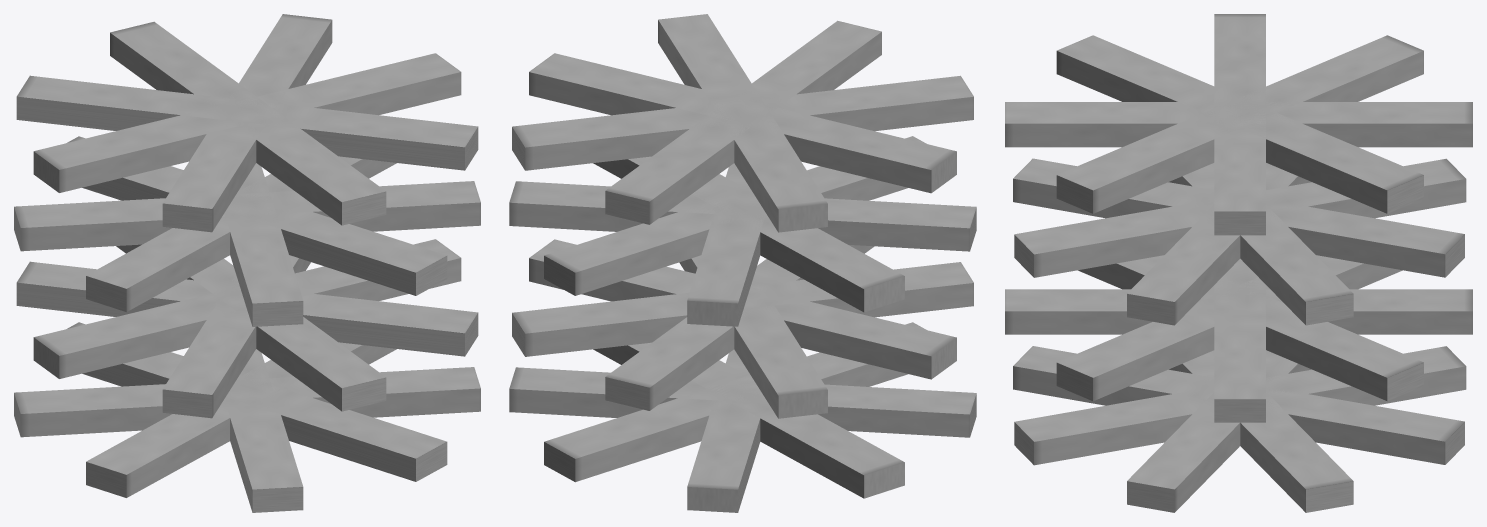
Rendered from turbine_middle.obj.
The picture shows the model from 3 angles, left to right: view 1: azimuth 30°, elevation 25°; view 2: azimuth 150°, elevation 25°; view 3: azimuth 270°, elevation 25°; orthographic projection.
Visible parts, largest first — view 1: cube; view 2: cube; view 3: cube.
Boxes of the visible parts, <box> form: cube: <box>14,14,480,512</box>; cube: <box>509,14,976,512</box>; cube: <box>1005,14,1472,512</box>.
Bounding box in the file's own units: 9.05 × 6.5 × 9.05.
